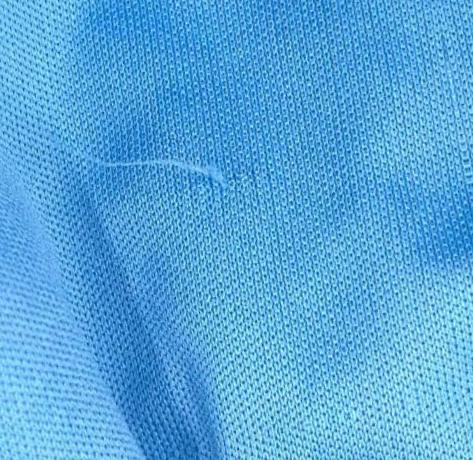snag: (68, 139, 247, 198)
